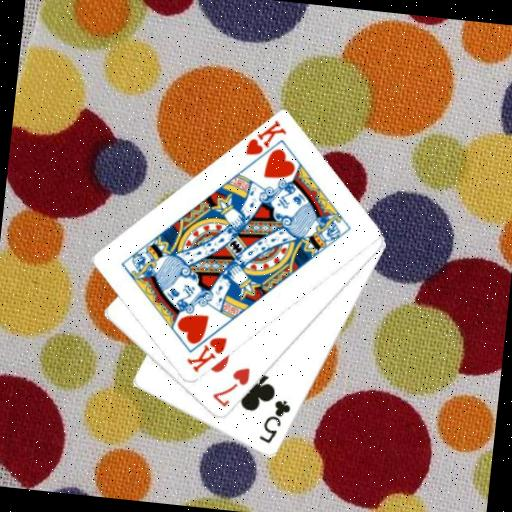5C: (256, 396, 294, 449)
7H: (208, 361, 253, 412)
KH: (182, 331, 229, 379), (242, 115, 290, 161)
